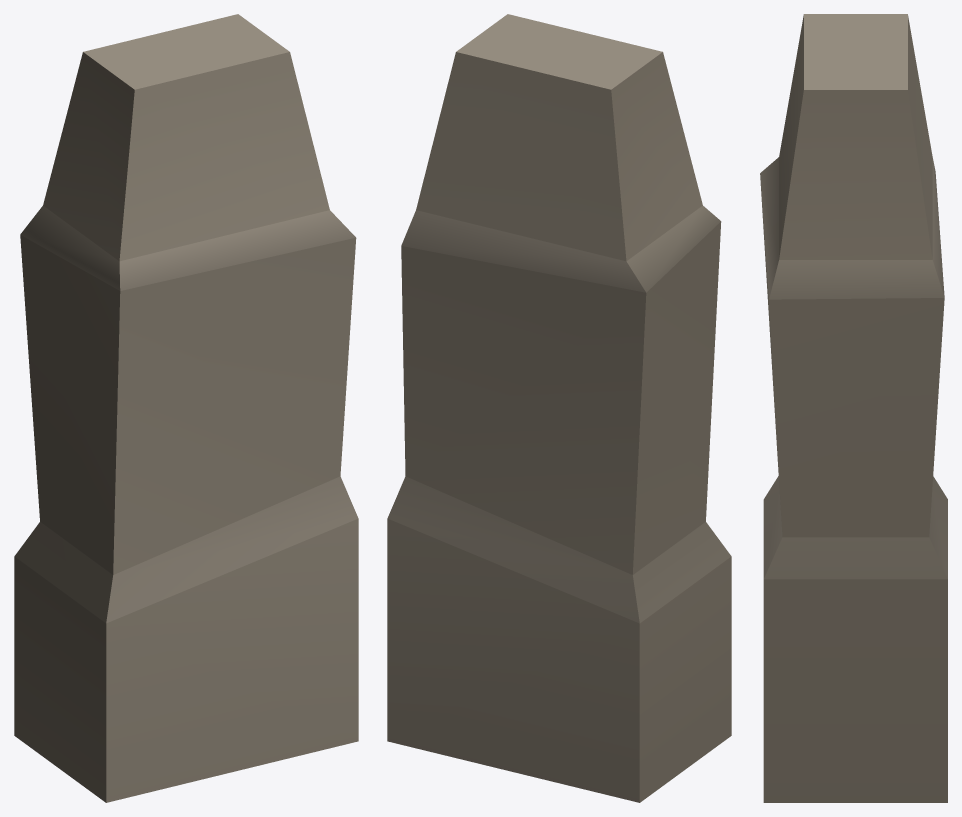
The model's file is ManmadeMore_SF_Env_StandingStone_03.fbx.
The picture shows the model from 3 angles, left to right: view 1: azimuth 30°, elevation 25°; view 2: azimuth 150°, elevation 25°; view 3: azimuth 270°, elevation 25°; orthographic projection.
Visible parts, largest first — view 1: SF_Env_StandingStone_03; view 2: SF_Env_StandingStone_03; view 3: SF_Env_StandingStone_03.
Boxes of the visible parts, box(x1,y1,x2,y2) form: SF_Env_StandingStone_03: box(14, 14, 358, 802); SF_Env_StandingStone_03: box(387, 14, 731, 802); SF_Env_StandingStone_03: box(760, 14, 947, 802).
Bounding box in the file's own units: 173 × 448 × 111.
